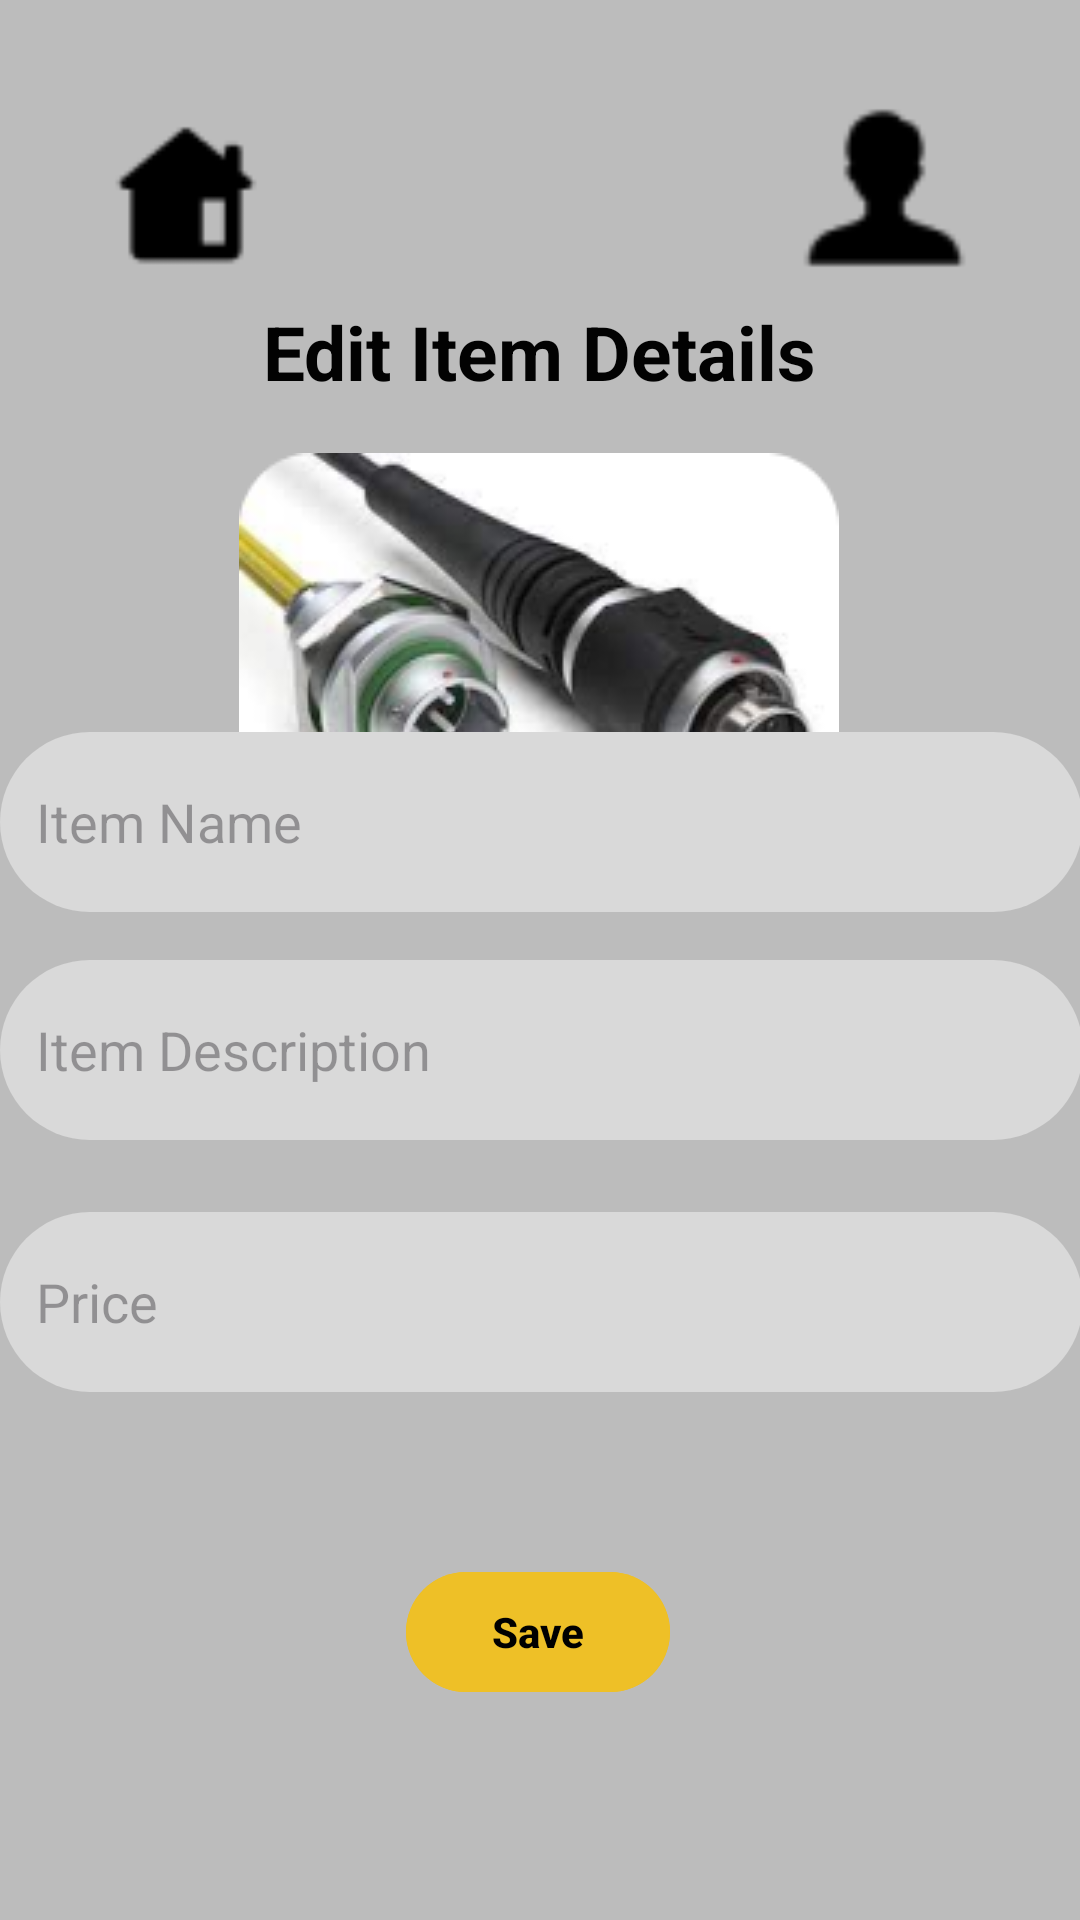

Screen size 1080*1920. Icon name, then its center in pixels as (x,y):
home: (186,195)
user male: (884,188)
